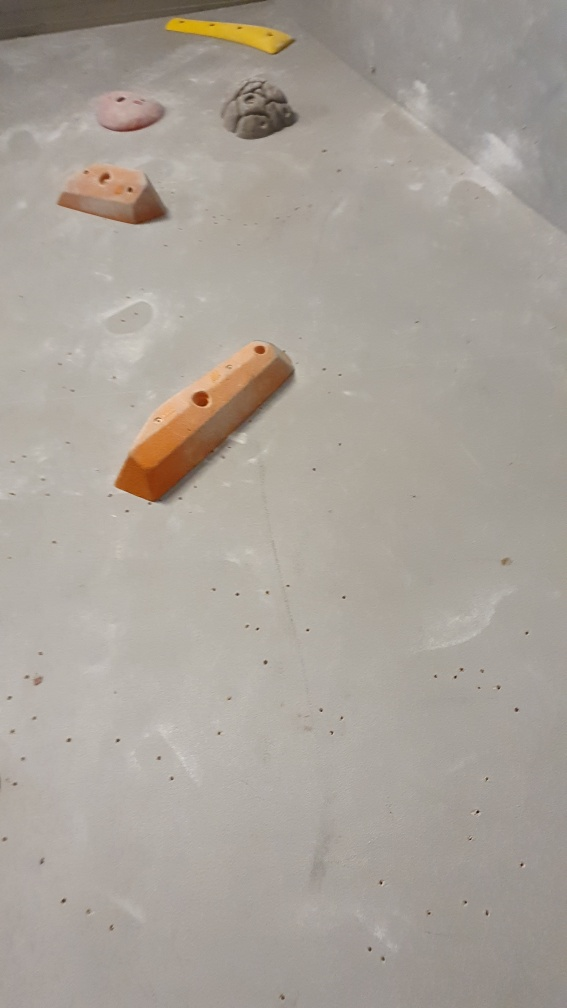Crimp: (161, 13, 301, 59)
Jug: (218, 76, 301, 148)
Pinch: (116, 338, 297, 504), (54, 157, 174, 229)
